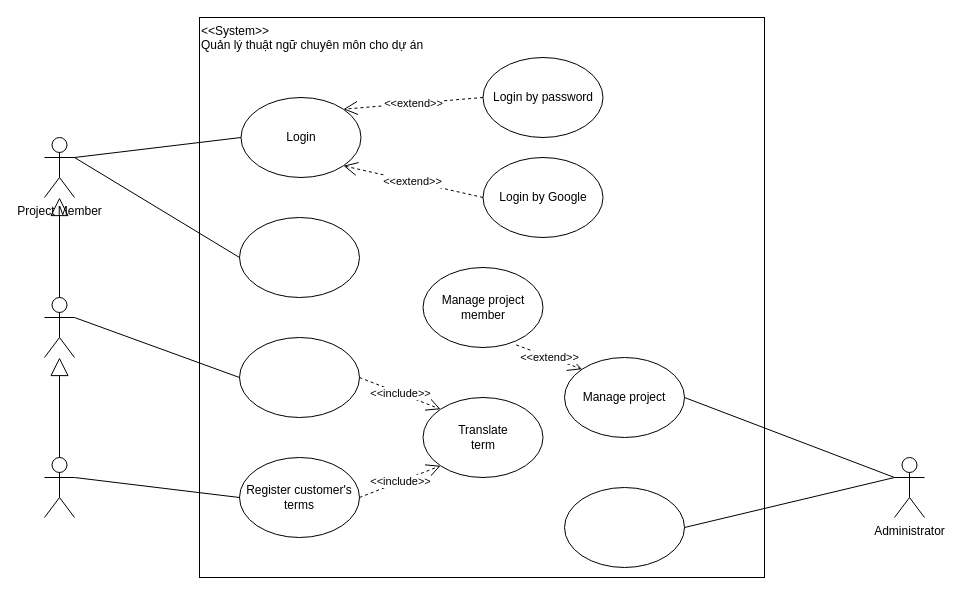
The diagram is 962 pixels wide and 595 high, and some of its shapes have lost their labels. Each missing label, with the centre of its shape:
"BrSE" goes at (59,487).
"Comtor" goes at (59,327).
"Manage system user" goes at (624,527).
"Register project's term" goes at (299,377).
"Search/View terms" goes at (299,257).
